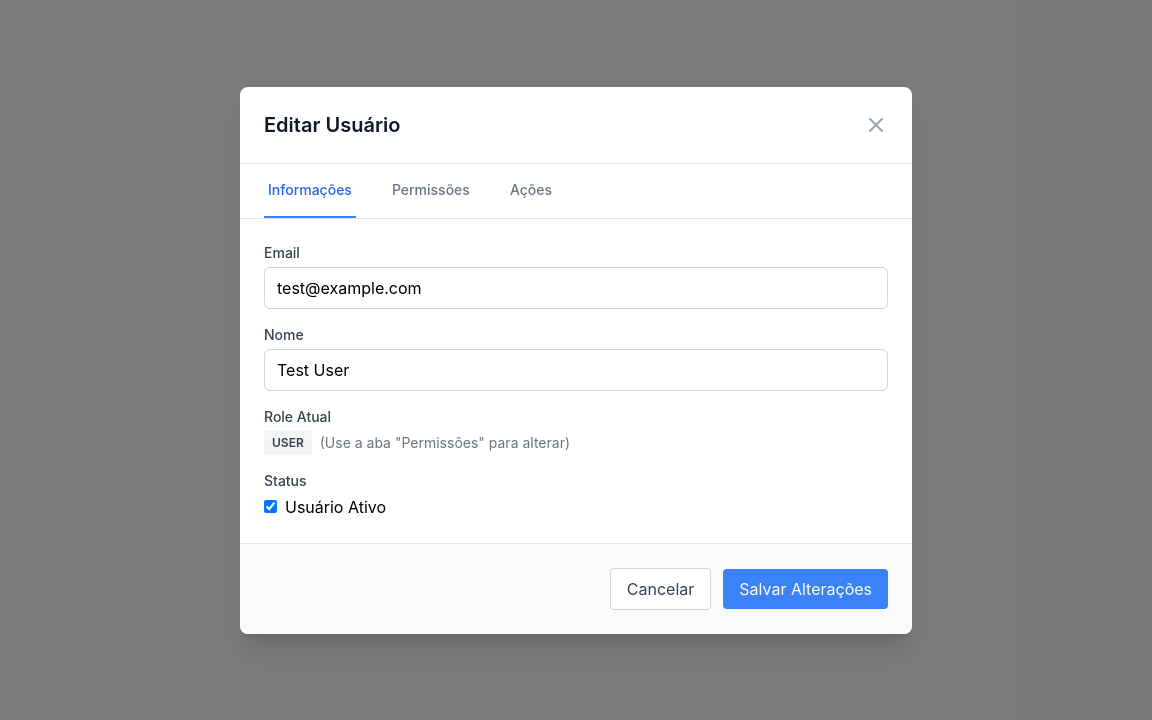
Test case: EditUserModal › Navegação entre Abas › deve alternar para aba "Ações" ao clicar
Step 1. Click the button "Ações" → (531, 190), box [506,164,556,218]
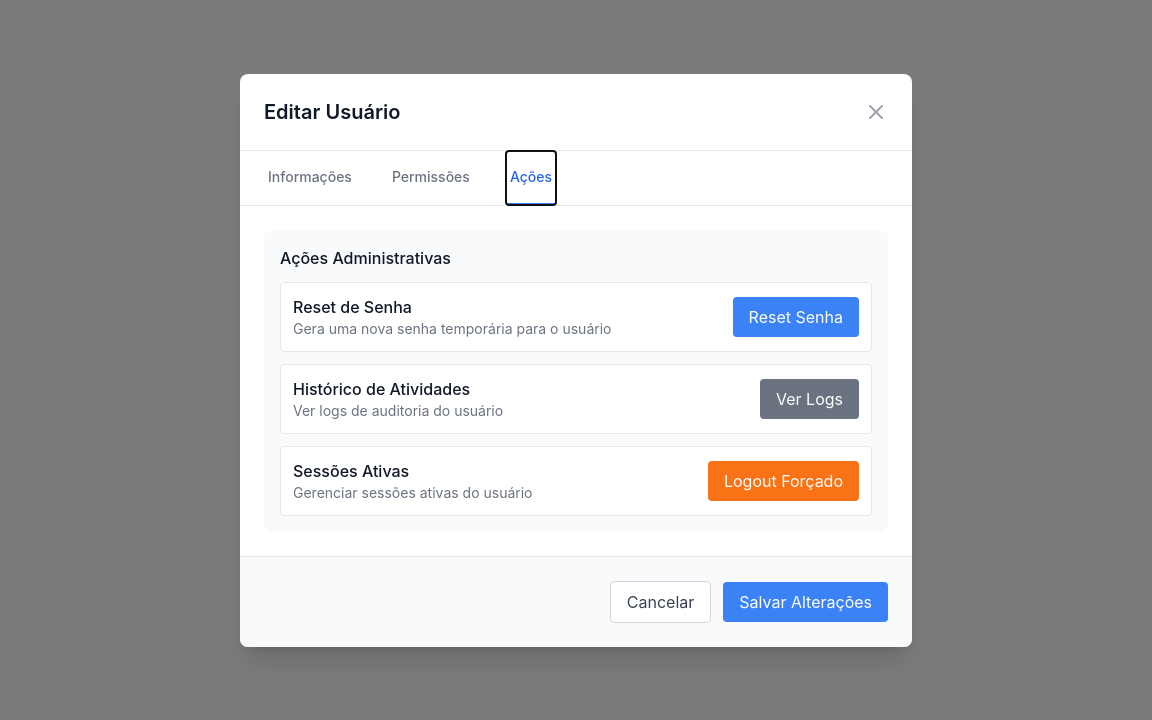
Result: the heading "Ações Administrativas" is shown at [280,248,451,268]
